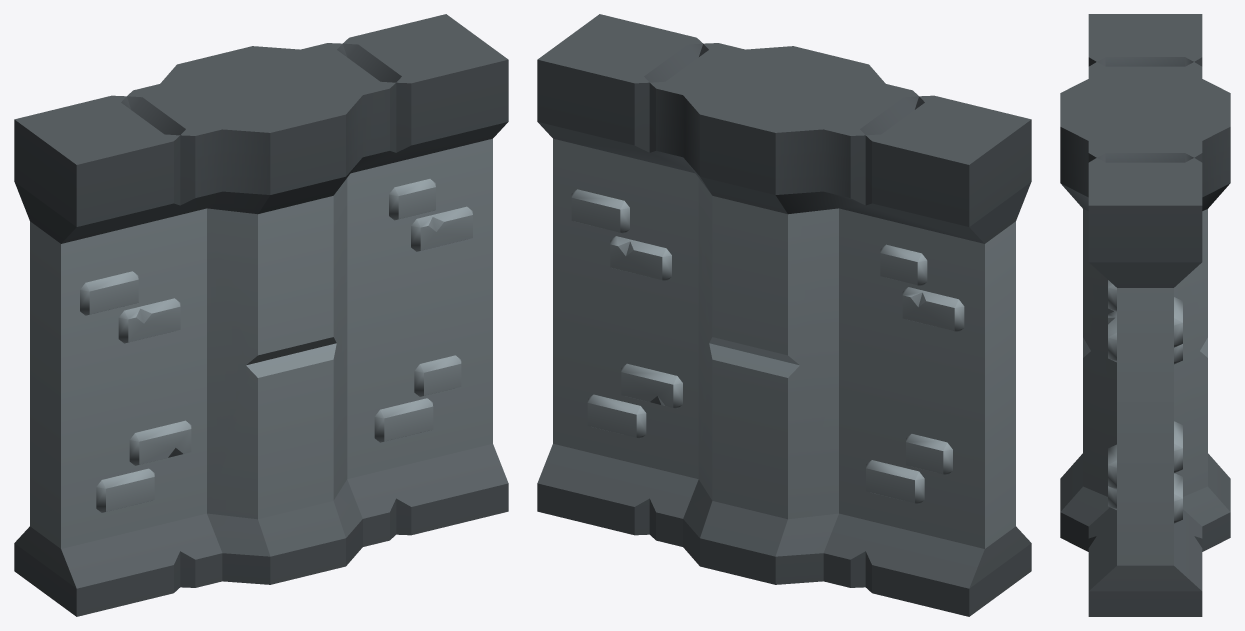
Rendered from wall_pillar.glb.
3 views of the same model, side by side, from view 1: azimuth 30°, elevation 25°; view 2: azimuth 150°, elevation 25°; view 3: azimuth 270°, elevation 25° (orthographic). The views are drawn at different scales.
Visible parts, largest first — view 1: wall_pillar; view 2: wall_pillar; view 3: wall_pillar.
Boxes of the visible parts, box(x1,y1,x2,y2) form: wall_pillar: box(14, 14, 508, 616); wall_pillar: box(537, 14, 1031, 616); wall_pillar: box(1060, 14, 1230, 616).
Bounding box in the file's own units: 2 × 2 × 0.75.
1 material, 1 textured.
